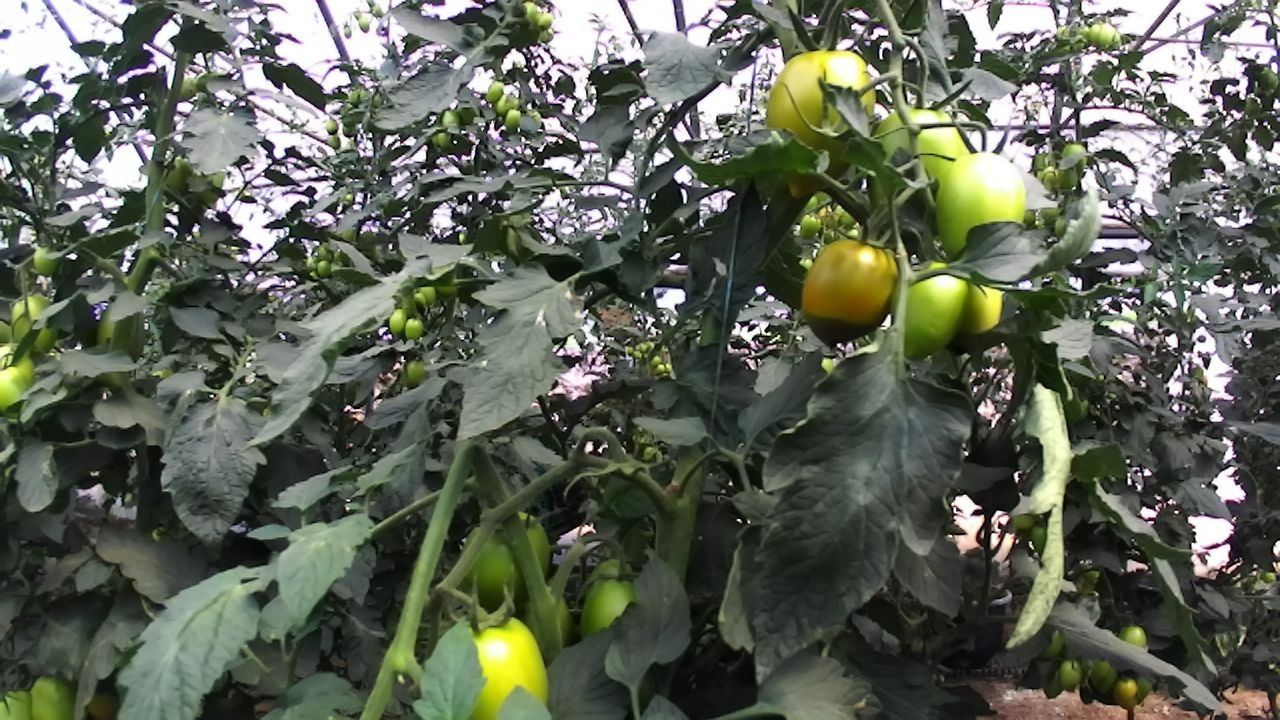tomato: (855, 92, 1003, 262), (406, 589, 585, 720), (754, 36, 883, 207), (448, 497, 570, 637), (789, 226, 913, 363), (926, 138, 1040, 278), (881, 248, 978, 380), (571, 543, 656, 680), (4, 285, 72, 365), (0, 332, 57, 423), (20, 652, 90, 720), (153, 147, 206, 207), (24, 235, 69, 287), (1105, 669, 1148, 717), (1052, 650, 1091, 698), (1114, 616, 1154, 660), (398, 352, 434, 393), (792, 206, 827, 248), (170, 70, 208, 108), (1080, 646, 1111, 690), (381, 303, 417, 340), (1060, 137, 1092, 174), (409, 278, 444, 311), (426, 124, 460, 157), (482, 75, 513, 111), (398, 312, 430, 345), (437, 104, 469, 137), (1026, 520, 1053, 559), (1037, 160, 1066, 195), (1055, 159, 1084, 193), (452, 98, 483, 128), (518, 0, 543, 34), (1010, 509, 1038, 539), (1093, 20, 1119, 52), (491, 90, 517, 118), (1083, 19, 1106, 47), (313, 253, 335, 281), (345, 86, 370, 110), (501, 105, 523, 132), (535, 9, 557, 34), (322, 130, 346, 151), (537, 23, 556, 46), (355, 11, 372, 35), (323, 114, 340, 137), (339, 19, 355, 42), (340, 121, 358, 138)
